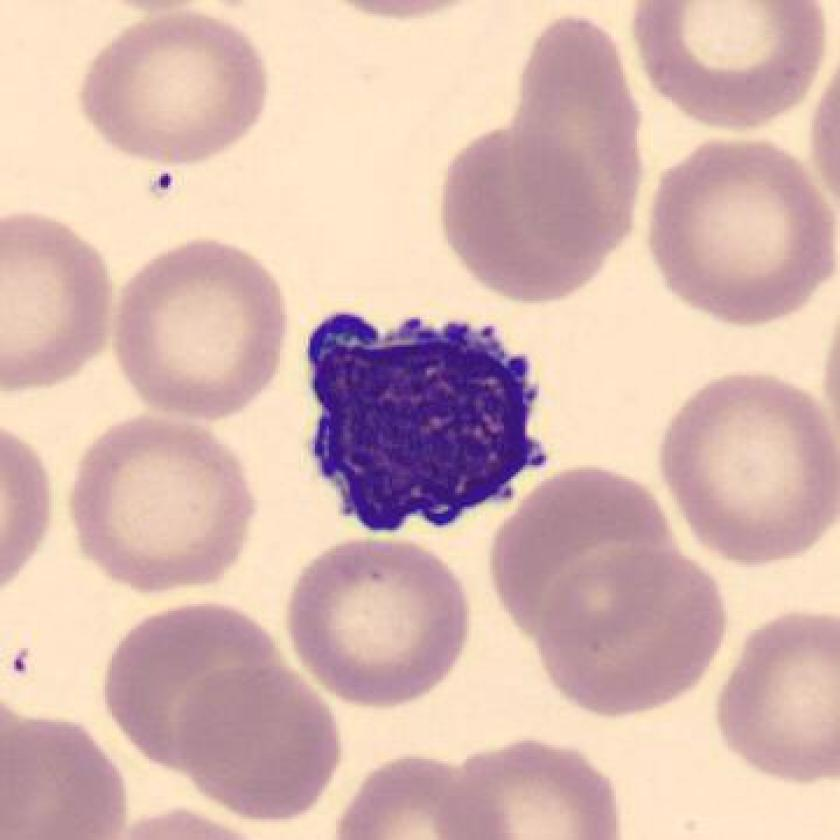lymphocyte: (286, 290, 561, 554)
